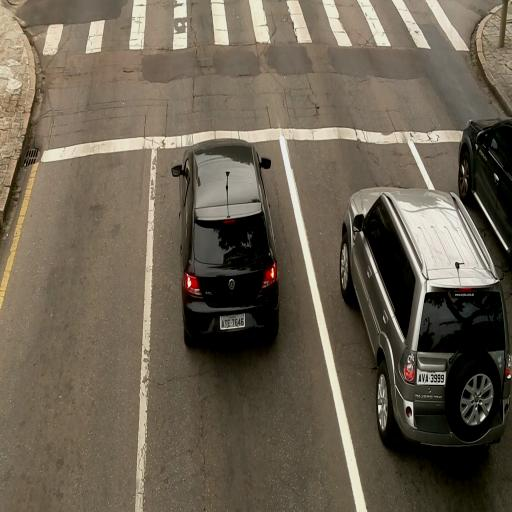car: (337, 151, 512, 449), (174, 136, 282, 346), (458, 117, 512, 275)
